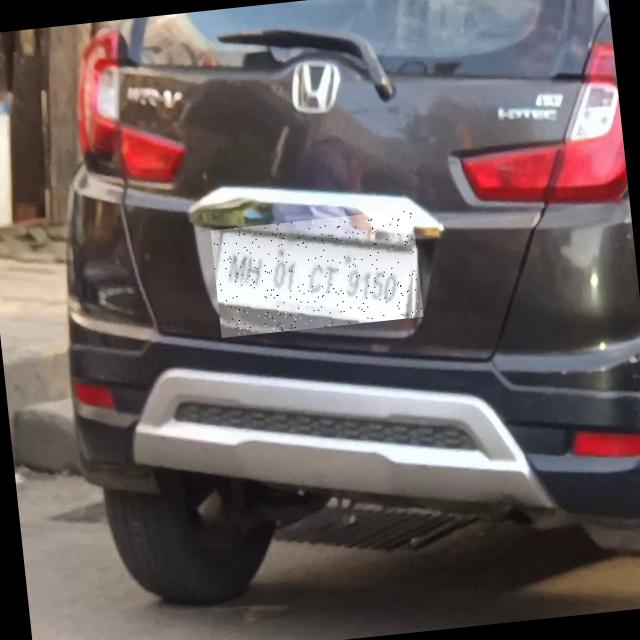Plate: (211, 210, 424, 339)
